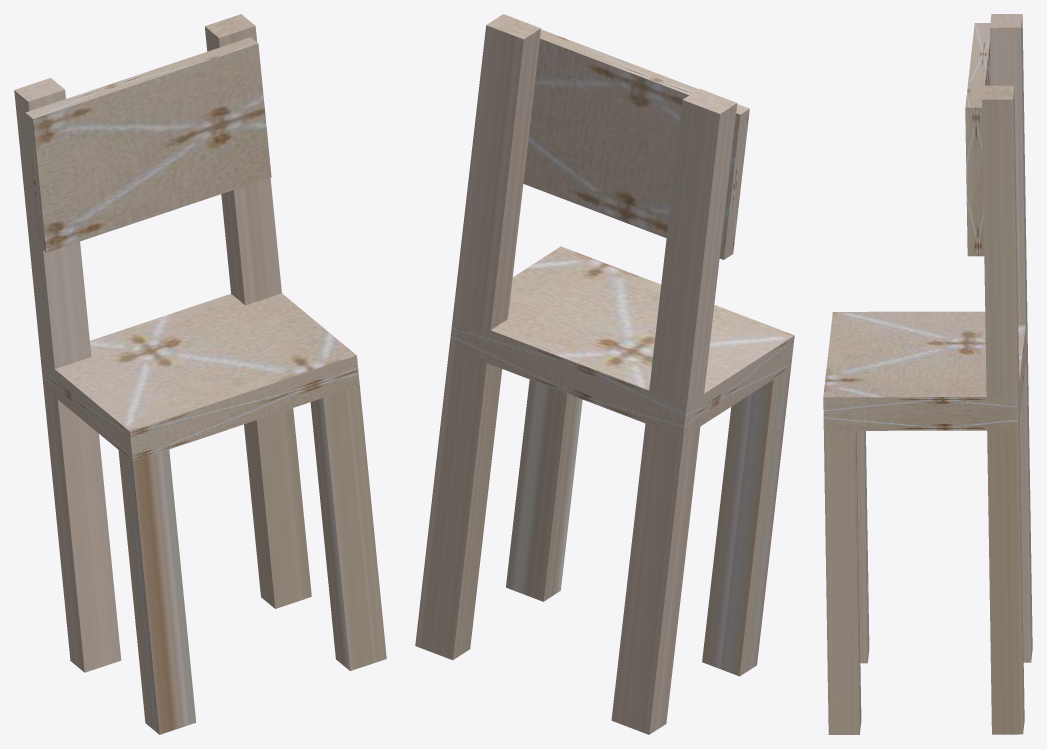
Rendered from chaise5.gltf.
3 renders of one model, left to right at view 1: azimuth 30°, elevation 25°; view 2: azimuth 150°, elevation 25°; view 3: azimuth 270°, elevation 25°, orthographic. The views are drawn at different scales.
Parts seen in each view (by area): view 1: chaise5; view 2: chaise5; view 3: chaise5.
Part boxes in pixels (x1,y1,x2,y2): chaise5: [14, 14, 386, 734]; chaise5: [415, 14, 794, 734]; chaise5: [823, 14, 1032, 734].
Size of the model in its own units: 1.58 by 3.23 by 0.9679.
1 material, 1 textured.
